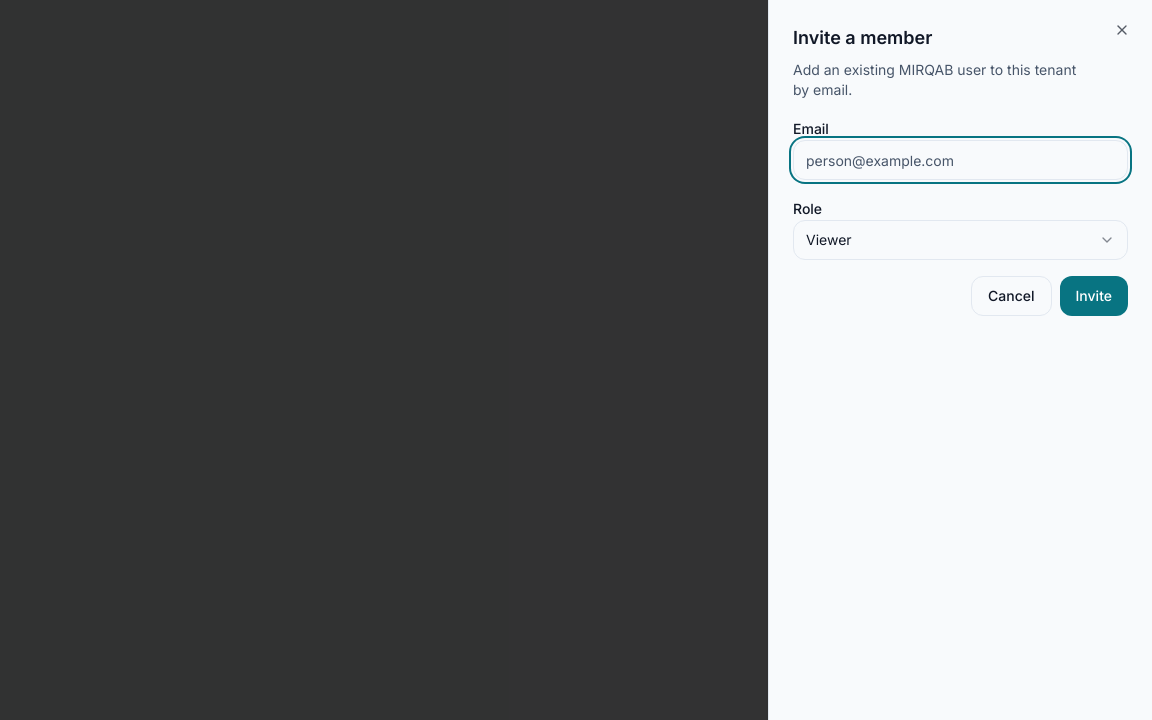
Scenario: InviteMemberSheet — NEXT_PUBLIC_FEATURE_INVITE_BY_EMAIL on › inviting an email already invited/a member maps the 409 to a field error, not a toast
Step 1. Type "dup@x.com" into the field labelled "Email" → (960, 160), box left=793, top=140, right=1128, bottom=180
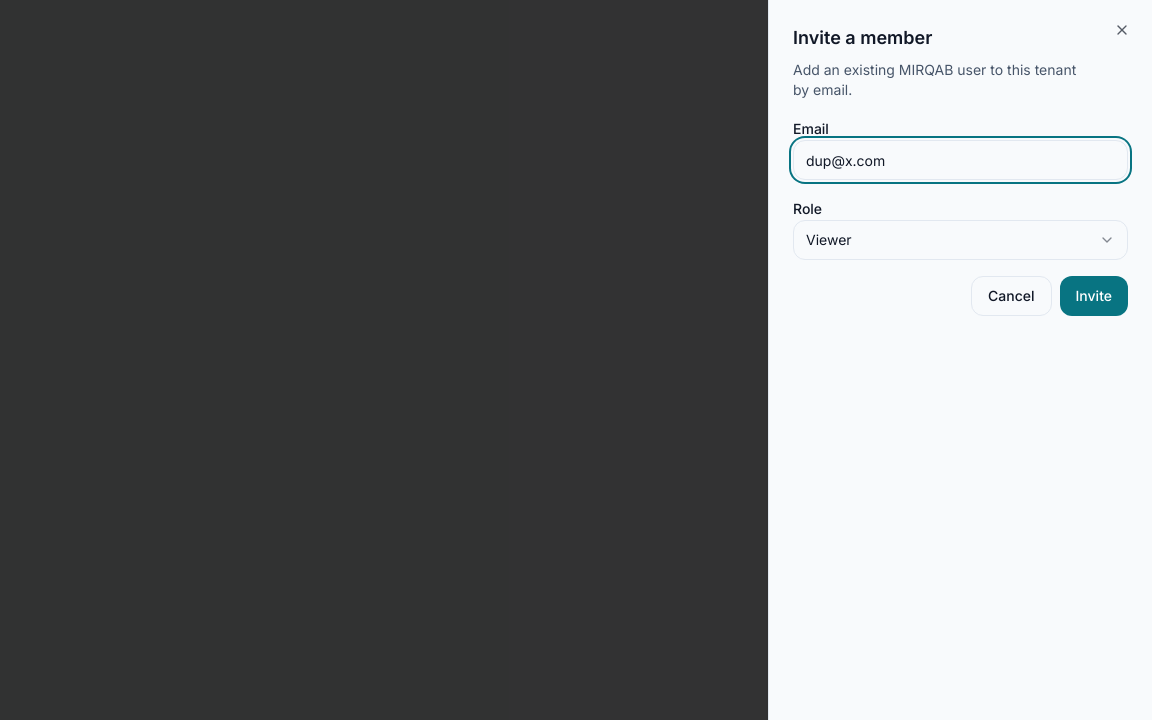
Step 2. Click the button "Invite" → (1094, 296), box left=1060, top=276, right=1128, bottom=316
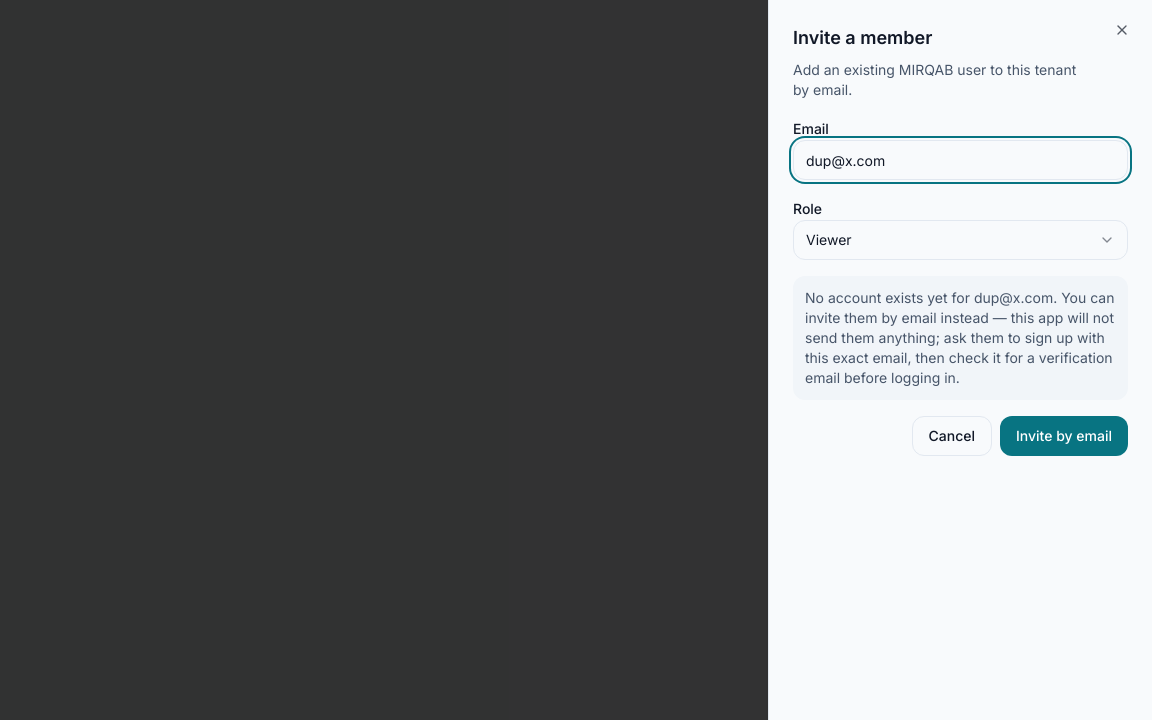
Expected: the button "Invite by email" is shown
Step 3. Click the button "Invite by email" → (1064, 436), box left=1000, top=416, right=1128, bottom=456
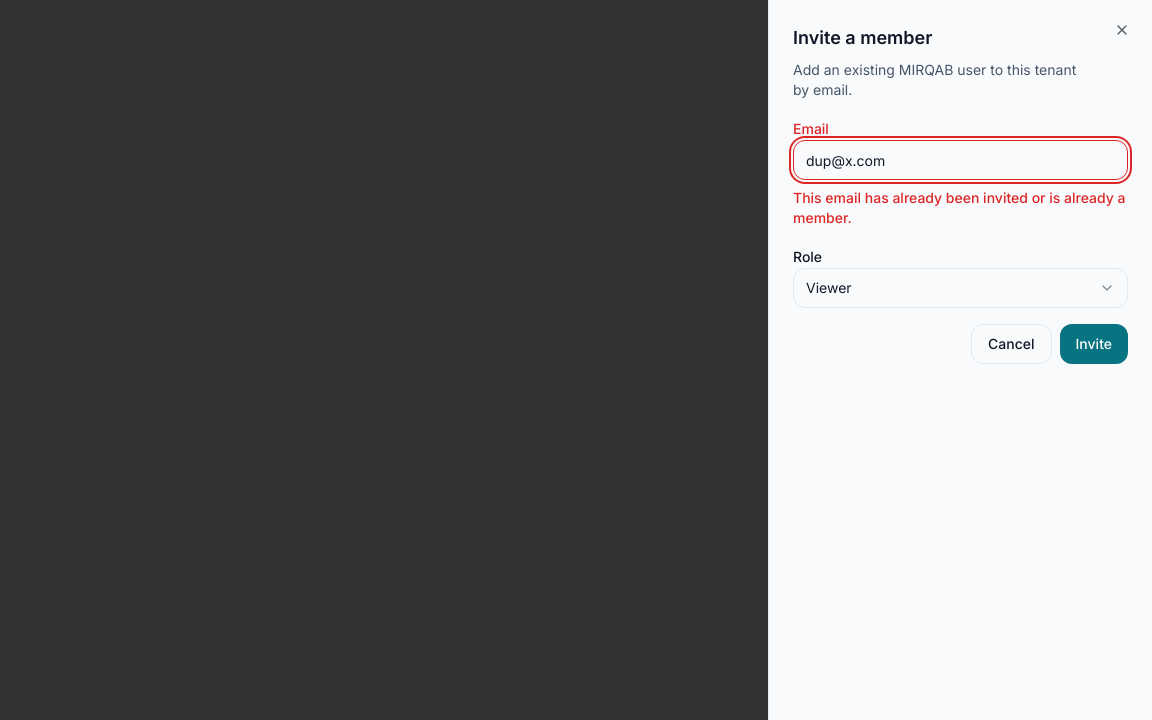
Expected: the text "This email has already been invited or is already a member." is shown, left=793, top=188, right=1128, bottom=228
